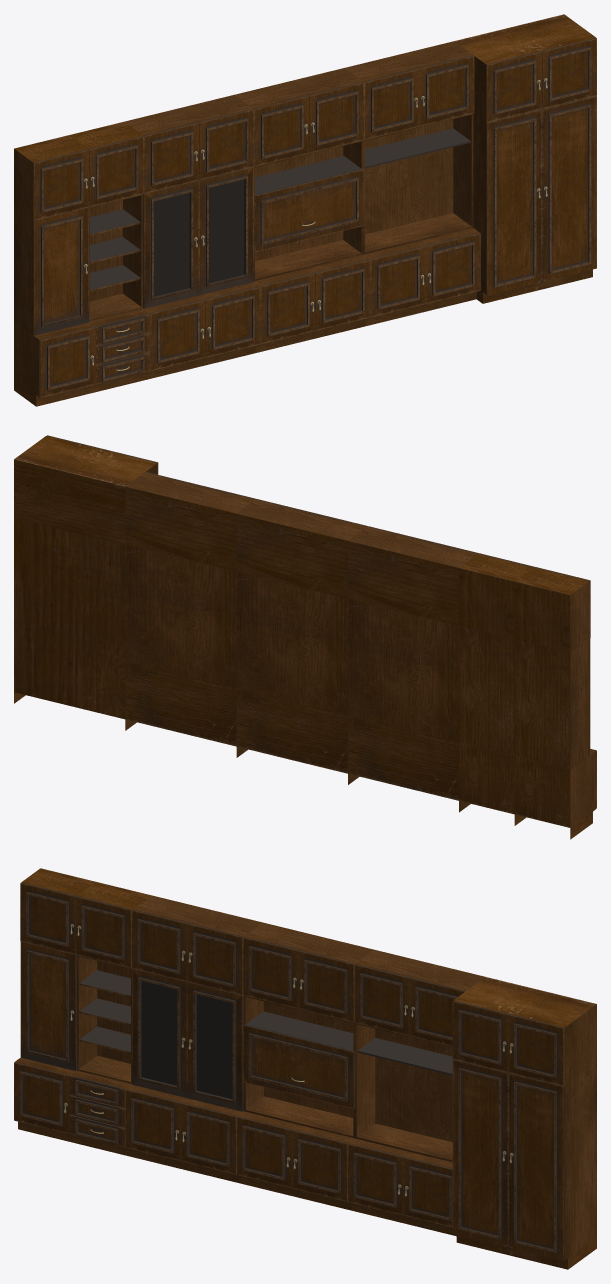
The model's file is kitchen_cabinet_library_11_mb.glb.
3 renders of one model, top to bottom at view 1: azimuth 30°, elevation 25°; view 2: azimuth 150°, elevation 25°; view 3: azimuth 330°, elevation 25°, orthographic.
Parts seen in each view (by area): view 1: 02_02_0, 01_01_0, Glass; view 2: 01_01_0, 02_02_0; view 3: 02_02_0, 01_01_0, Glass.
Boxes of the visible parts, box(x1,y1,x2,y2) form: 02_02_0: box(33, 38, 596, 397); 01_01_0: box(14, 14, 595, 406); Glass: box(154, 179, 244, 296); 01_01_0: box(14, 436, 595, 839); 02_02_0: box(47, 435, 596, 808); 02_02_0: box(14, 882, 564, 1260); 01_01_0: box(15, 868, 596, 1269); Glass: box(141, 981, 232, 1099).
Size of the model in its own units: 500 by 210 by 53.89.
Materials: 3 (2 with a texture image).
